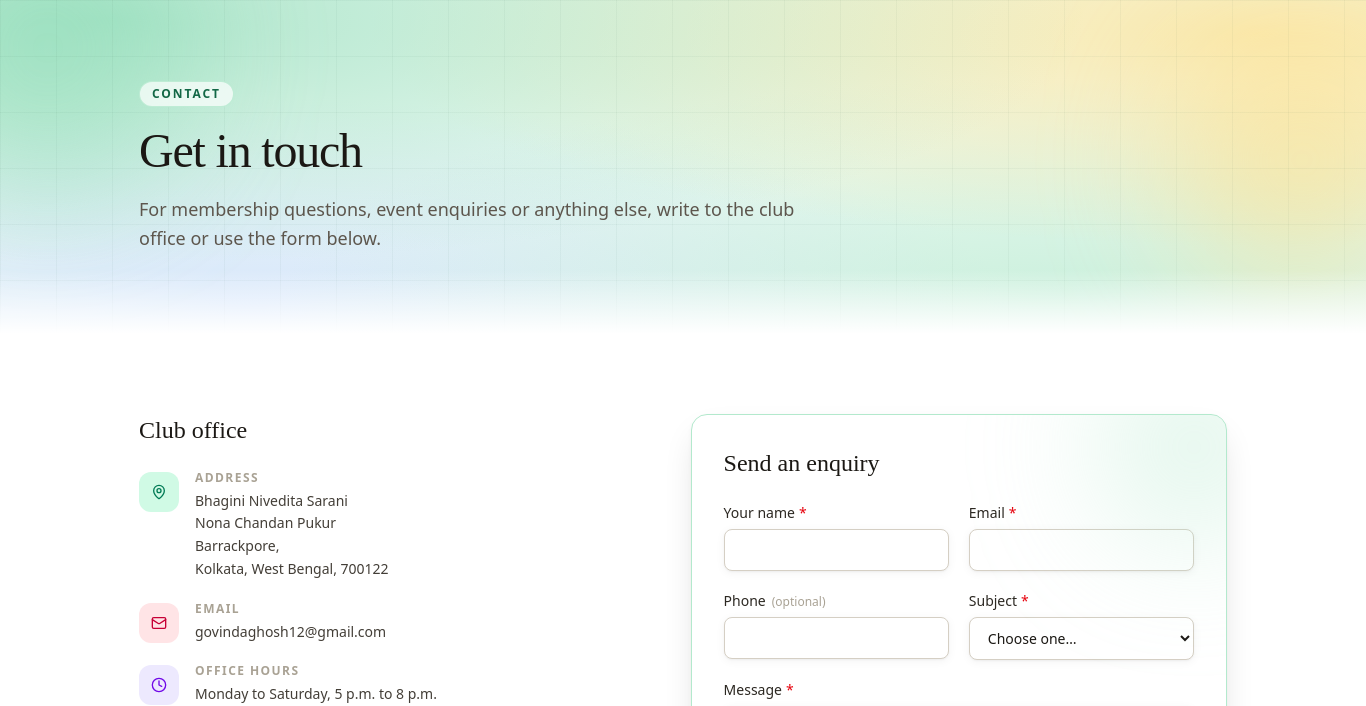
Test: sending an enquiry › confirms it in the club’s own words, and empties the form
This screenshot has width=1366, height=706.
Type "Bristi Ghosh" into the field labelled "Your name*" at (836, 550), box [724,528,949,570]
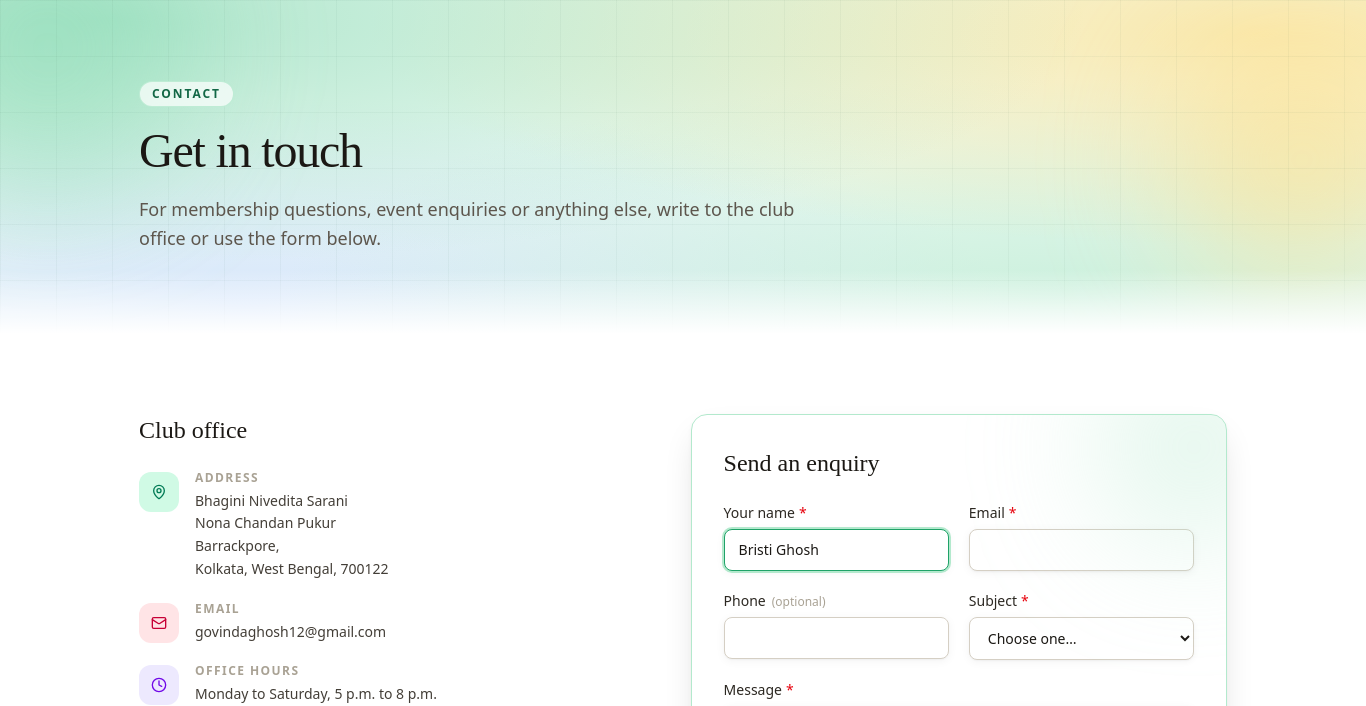
Type "bristi@example.org" into the field labelled "Email*" at (1081, 550), box [969,528,1194,570]
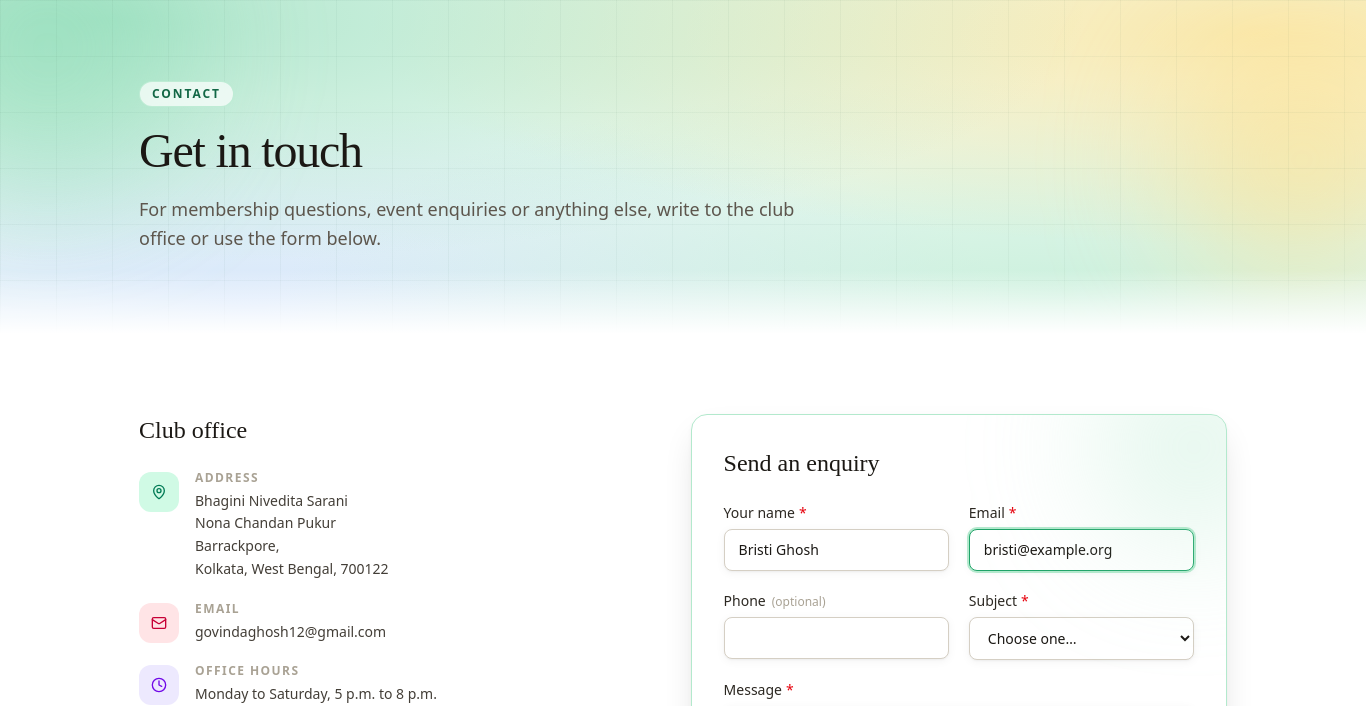
Select "Membership enquiry" in the dropdown labelled "Subject*" at (1081, 638), box [969,616,1194,660]
(page scrolled)
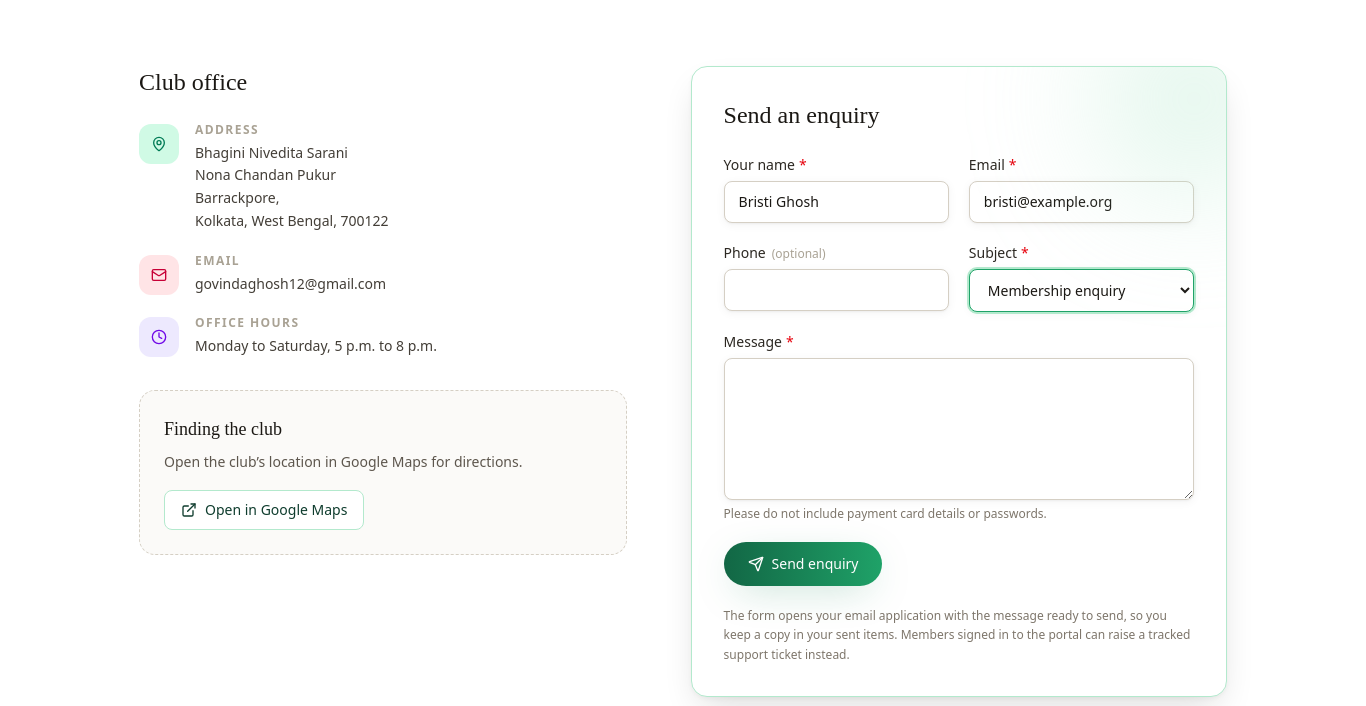
Type "I live on Station Road and would like to know how to become a member." into the text box labelled "Message*" at (959, 428), box [724,358,1194,500]
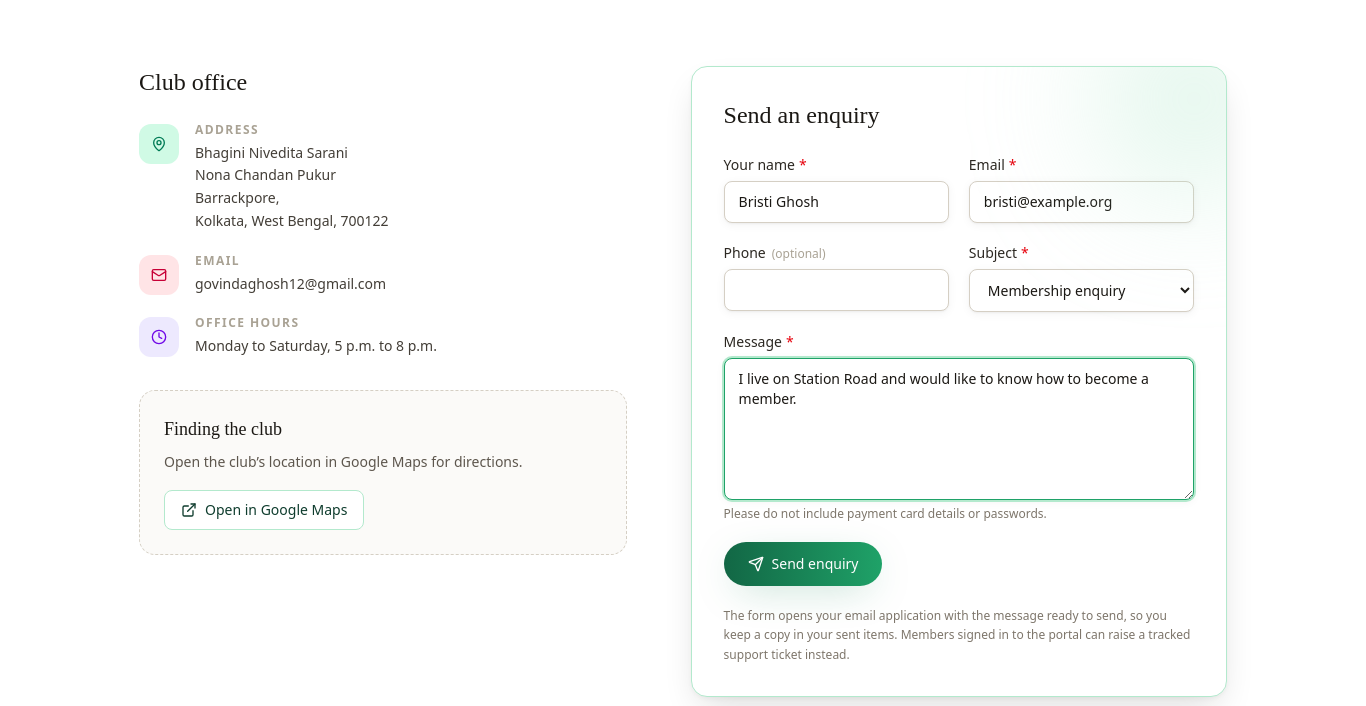
Click the button "Send enquiry" at (803, 564), box [724,542,882,586]
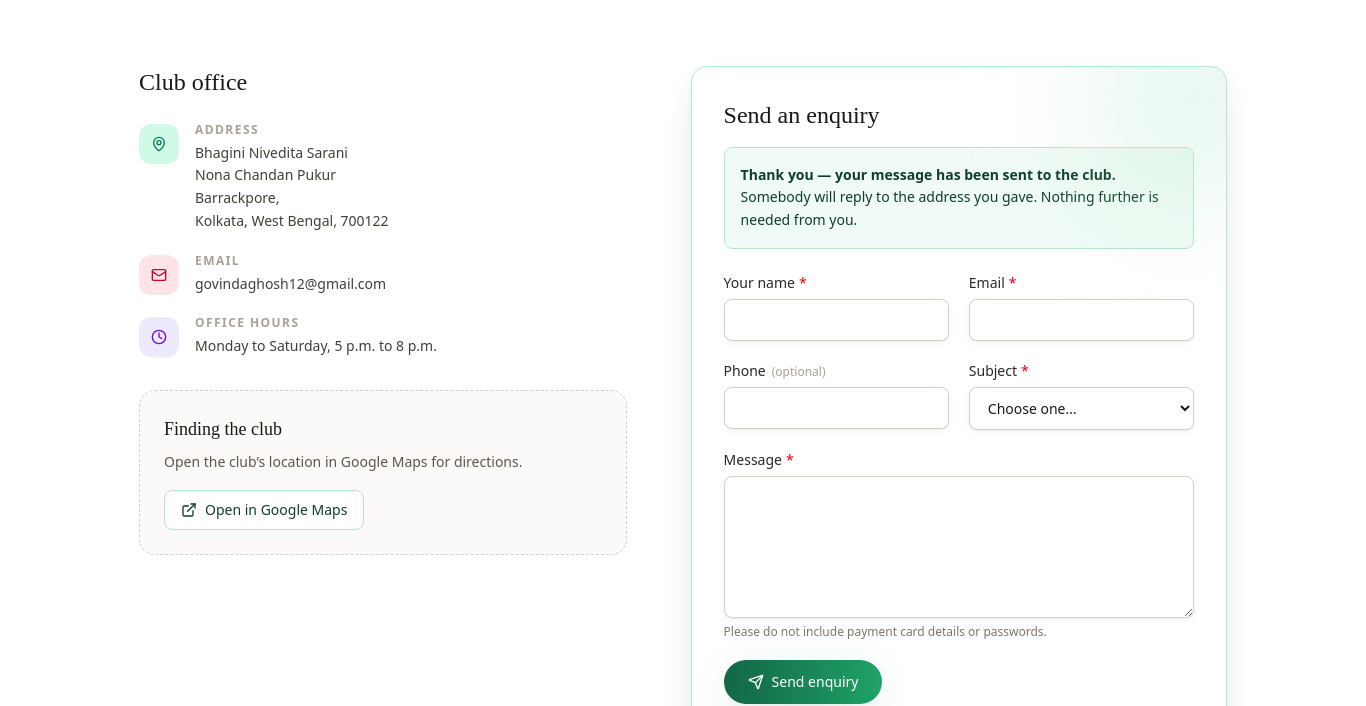
expect the message shows "has been sent to the club": met, box [741,164,1116,184]
expect the field labelled "Your name*" is empty: met, box [724,299,949,341]
